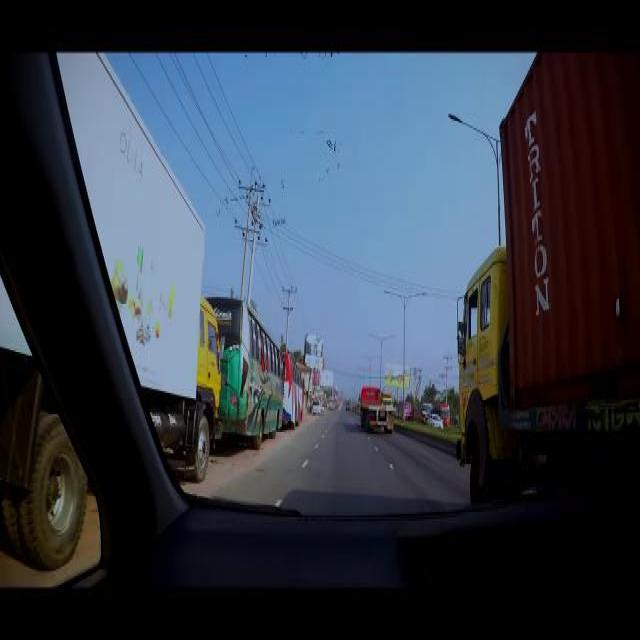bus: (203, 294, 284, 446), (282, 348, 304, 426), (432, 401, 450, 424), (413, 400, 431, 421)
car: (426, 412, 442, 427)
pickup: (0, 47, 222, 572)
truck: (455, 45, 639, 502), (358, 385, 396, 433)
